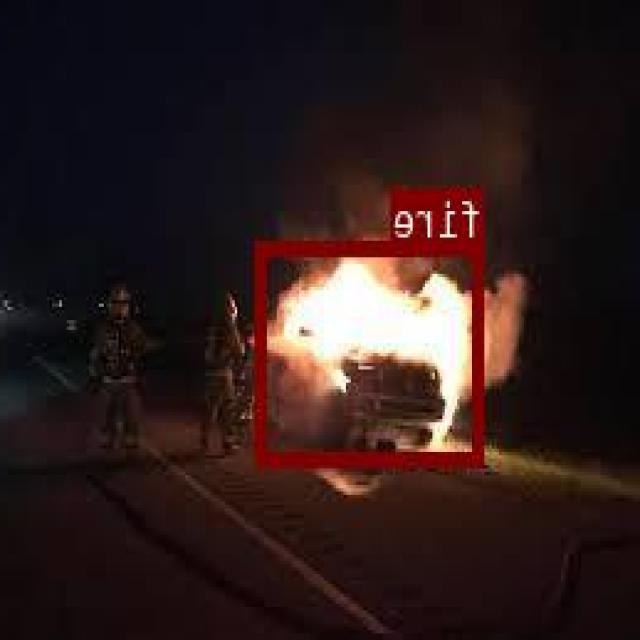fire: (258, 238, 486, 464)
